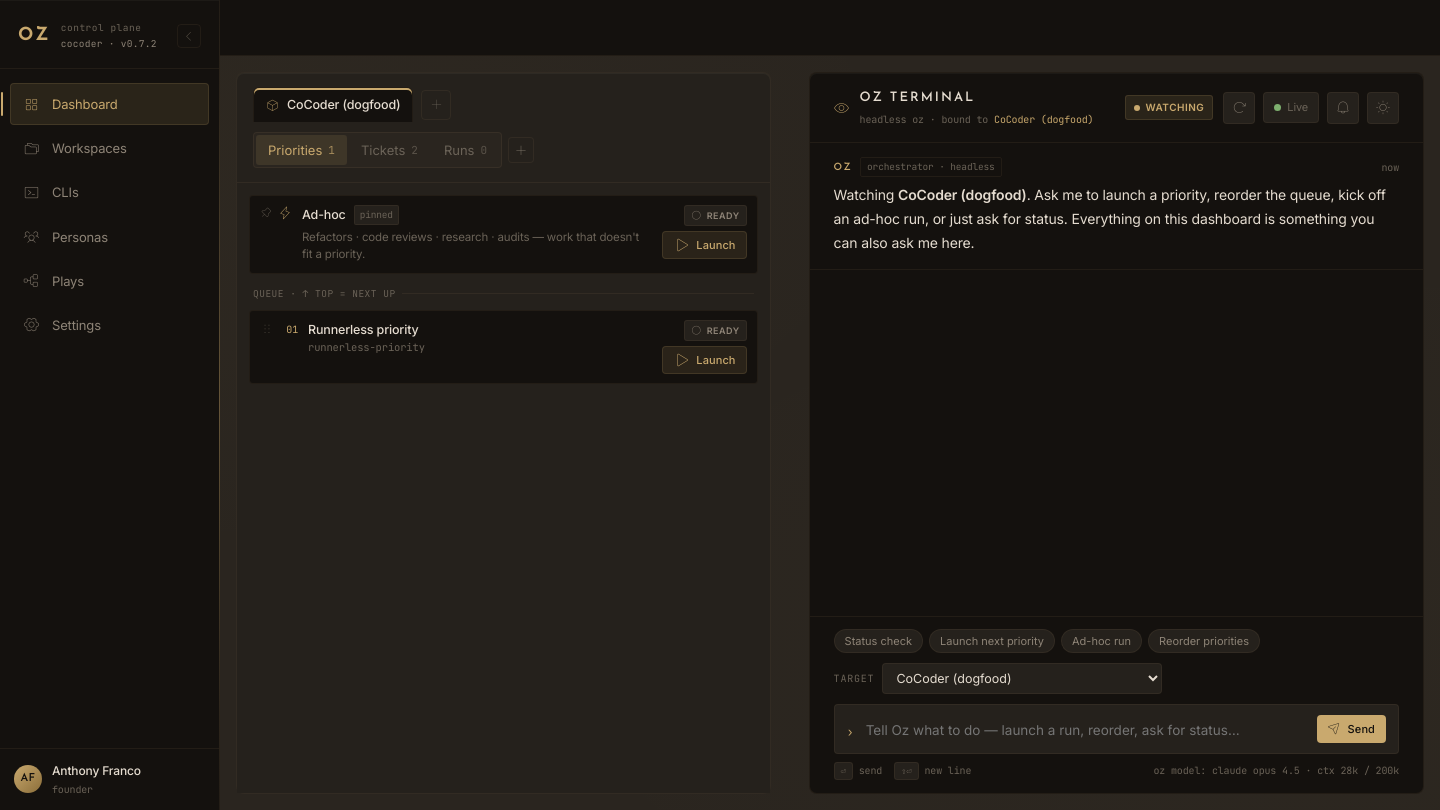
it: Oz renderer — live daemon path › runnerless priorities launch outside the daemon runner instead of posting to /runs
expect the text "Live" is shown: met, box [1287,98,1308,117]
Click the button "Launch" in the row of "runnerless-priority" at {"x": 704, "y": 360}, box [662,346,747,374]
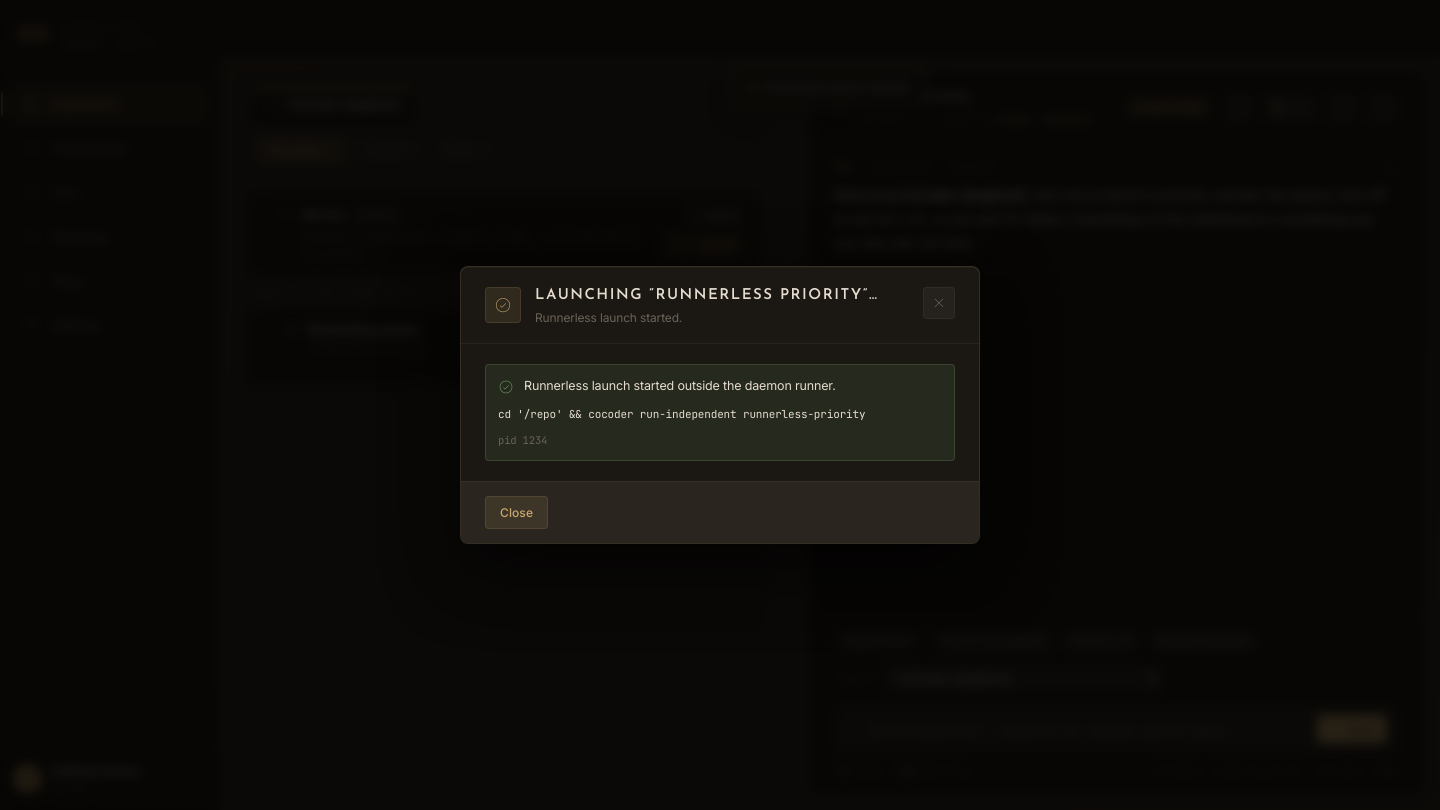
expect the text "Runnerless launch started outside the daemon runner." is shown: met, box [524,378,836,393]
expect the text "cd '/repo' && cocoder run-independent runnerless-priority" is shown: met, box [498,407,865,421]
expect the text "pid 1234" is shown: met, box [498,433,547,447]
